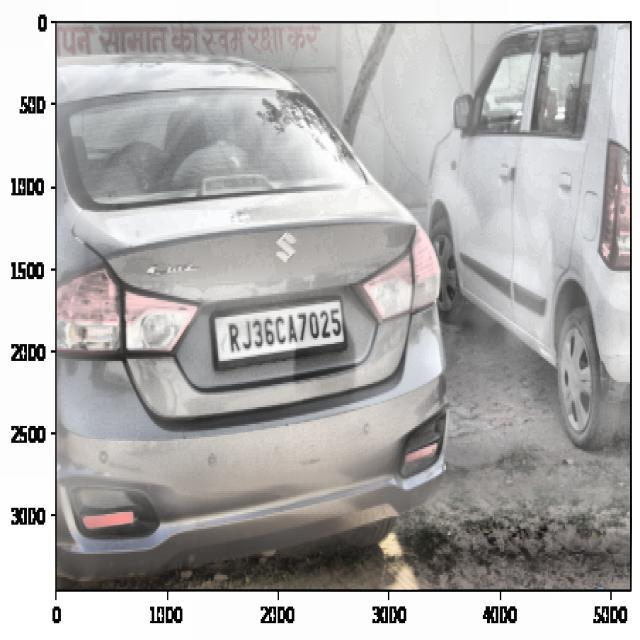license_plate: (223, 300, 347, 358)
